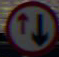Two way: (10, 3, 48, 46)
